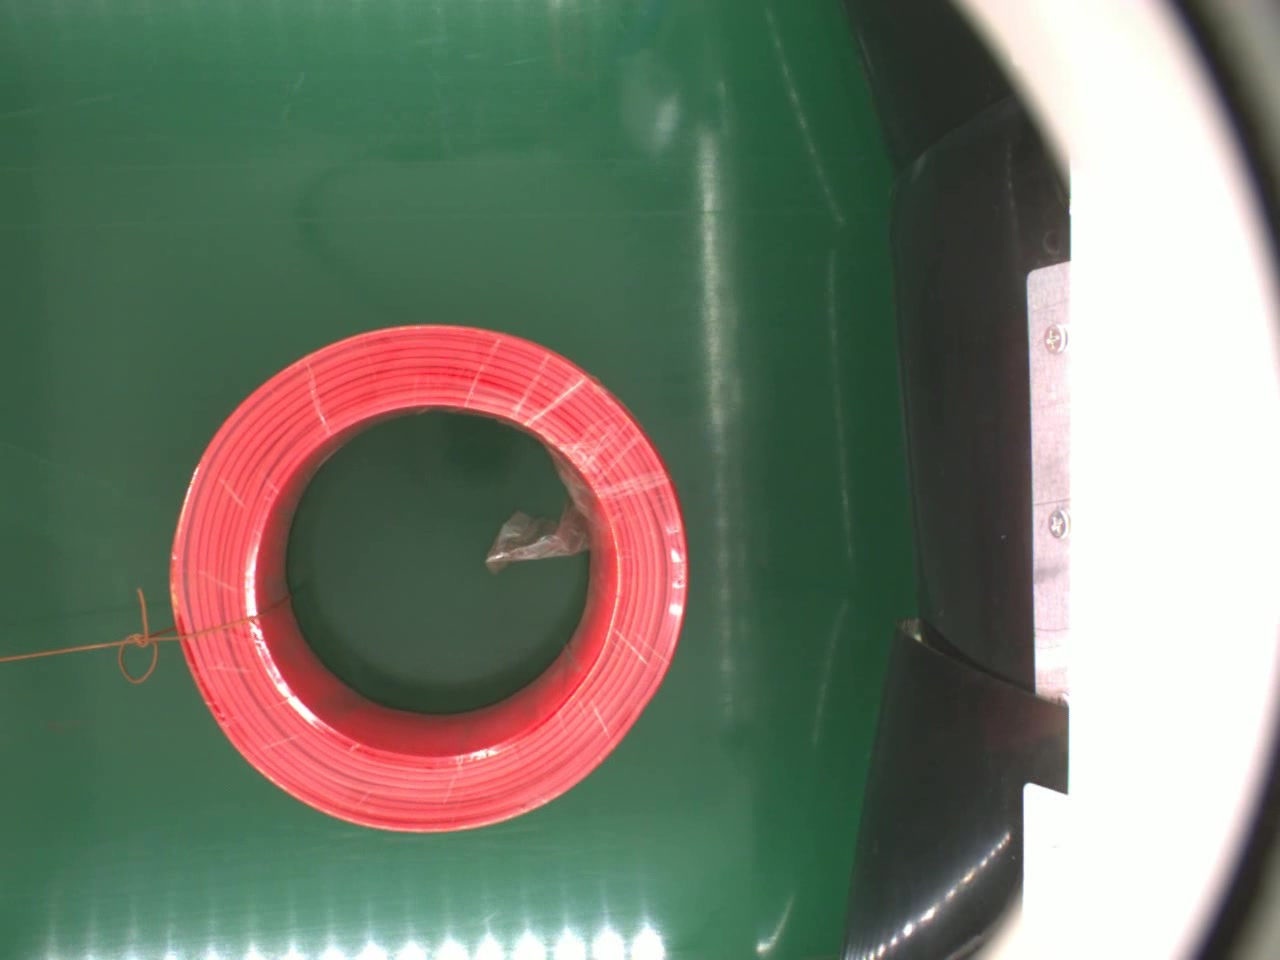red: (166, 317, 690, 832)
